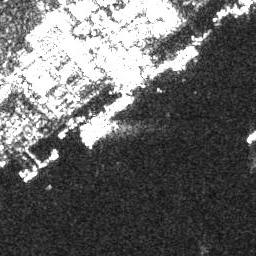ship: (84, 120, 119, 148), (172, 49, 200, 74), (21, 169, 40, 183)
